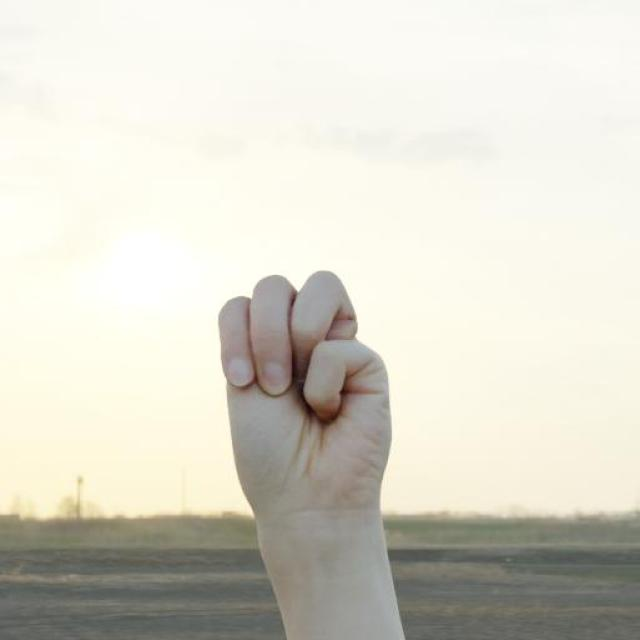M: (215, 264, 398, 530)
